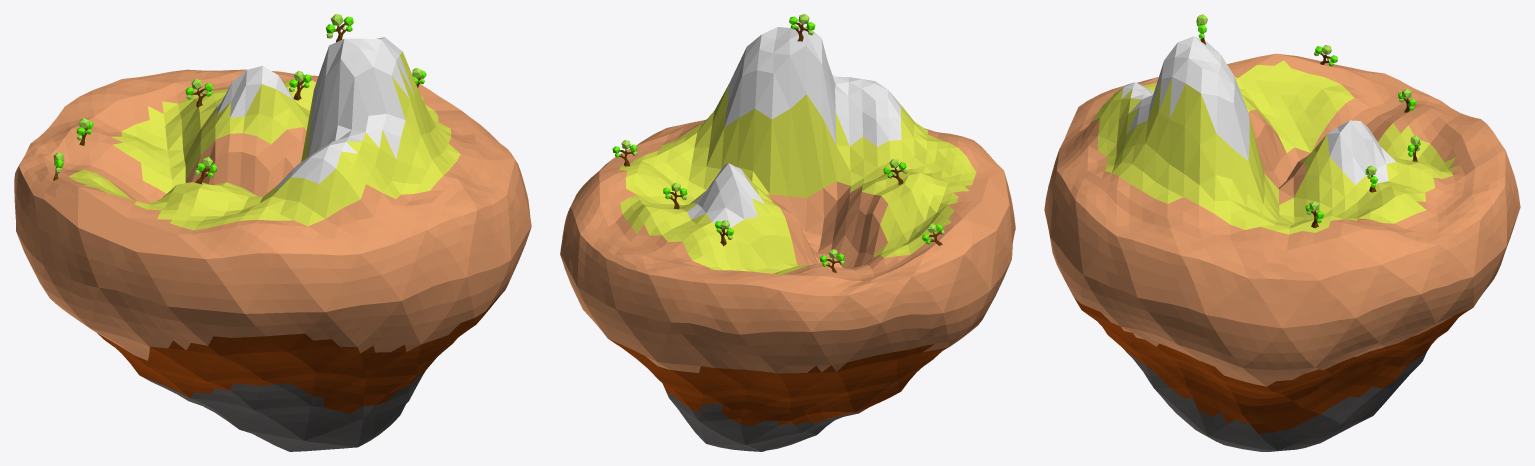
Rendered from stage1.5.fbx.
The picture shows the model from 3 angles, left to right: view 1: azimuth 30°, elevation 25°; view 2: azimuth 150°, elevation 25°; view 3: azimuth 270°, elevation 25°; orthographic projection. The views are drawn at different scales.
Parts seen in each view (by area): view 1: 아이코스피어; view 2: 아이코스피어; view 3: 아이코스피어.
Part boxes in pixels (x1=…): 아이코스피어: x1=14, y1=37, x2=531, y2=451; 아이코스피어: x1=560, y1=26, x2=1015, y2=451; 아이코스피어: x1=1044, y1=36, x2=1520, y2=451.
Bounding box in the file's own units: 1981 × 1899 × 1933.
